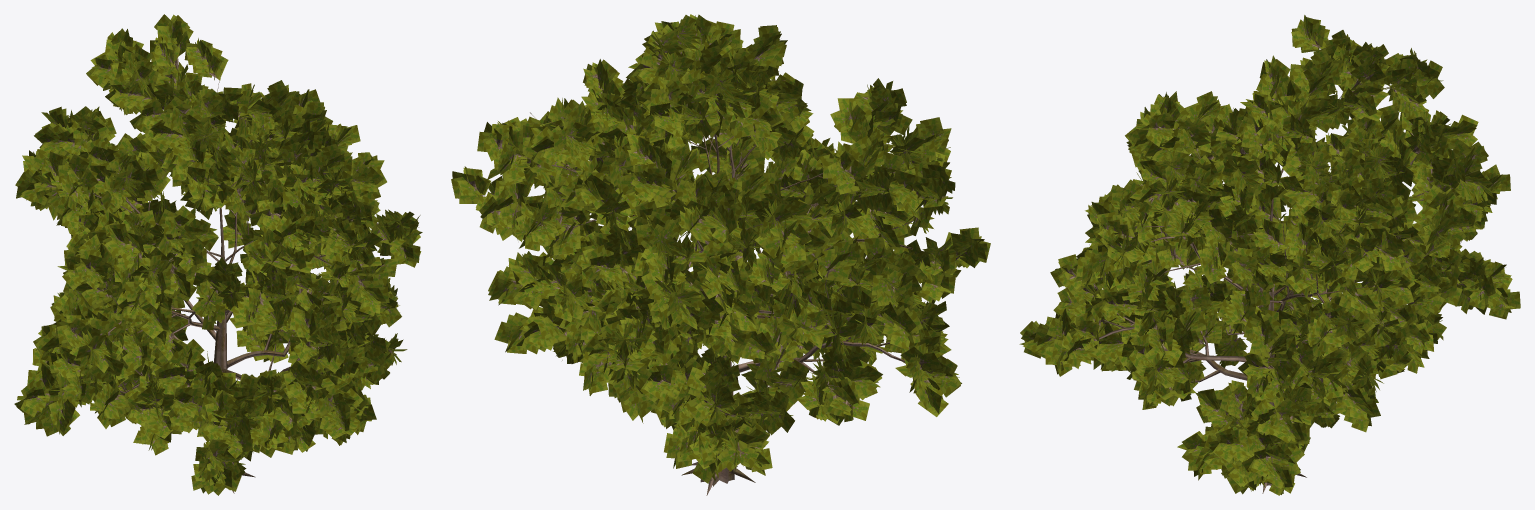
Rendered from maple-green.gltf.
3 views of the same model, side by side, from view 1: azimuth 30°, elevation 25°; view 2: azimuth 150°, elevation 25°; view 3: azimuth 270°, elevation 25° (orthographic). The views are drawn at different scales.
Visible parts, largest first — view 1: Sugar maple Green; view 2: Sugar maple Green; view 3: Sugar maple Green.
Part boxes in pixels (left/top/right/bottom): Sugar maple Green: left=14, top=14, right=422, bottom=495; Sugar maple Green: left=451, top=14, right=990, bottom=495; Sugar maple Green: left=1019, top=15, right=1520, bottom=495.
Bounding box in the file's own units: 933 × 945 × 983.
2 materials, 2 textured.
